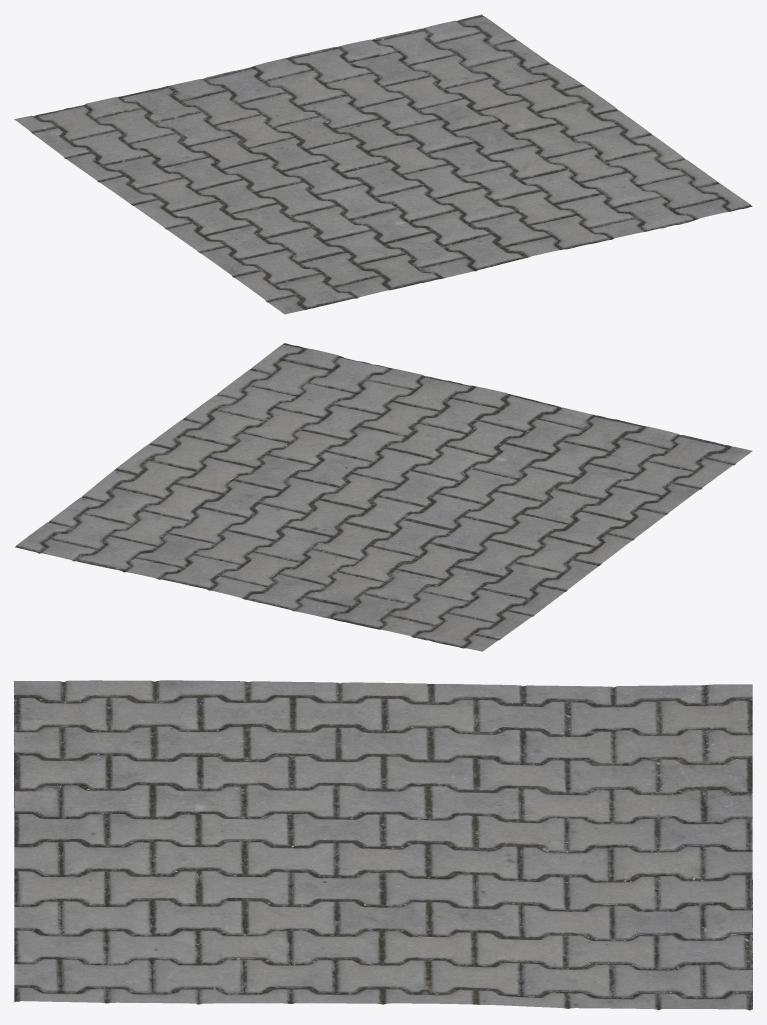
3 views of the same model, one above another, from view 1: azimuth 30°, elevation 25°; view 2: azimuth 150°, elevation 25°; view 3: azimuth 270°, elevation 25° (orthographic). The views are drawn at different scales.
Visible parts, largest first — view 1: zamkova_dlazba_zamkova_dlazba_DiffuseMap_0; view 2: zamkova_dlazba_zamkova_dlazba_DiffuseMap_0; view 3: zamkova_dlazba_zamkova_dlazba_DiffuseMap_0.
Boxes of the visible parts, x1=… form: zamkova_dlazba_zamkova_dlazba_DiffuseMap_0: x1=14, y1=14, x2=752, y2=314; zamkova_dlazba_zamkova_dlazba_DiffuseMap_0: x1=15, y1=343, x2=752, y2=651; zamkova_dlazba_zamkova_dlazba_DiffuseMap_0: x1=14, y1=680, x2=752, y2=1010.
Bounding box in the file's own units: 1.28 × 0.0348 × 1.28.
Materials: 1 (1 with a texture image).
